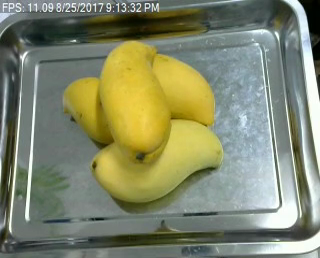Mango: (86, 116, 224, 204), (97, 38, 172, 155), (143, 52, 219, 125), (61, 74, 127, 146)
